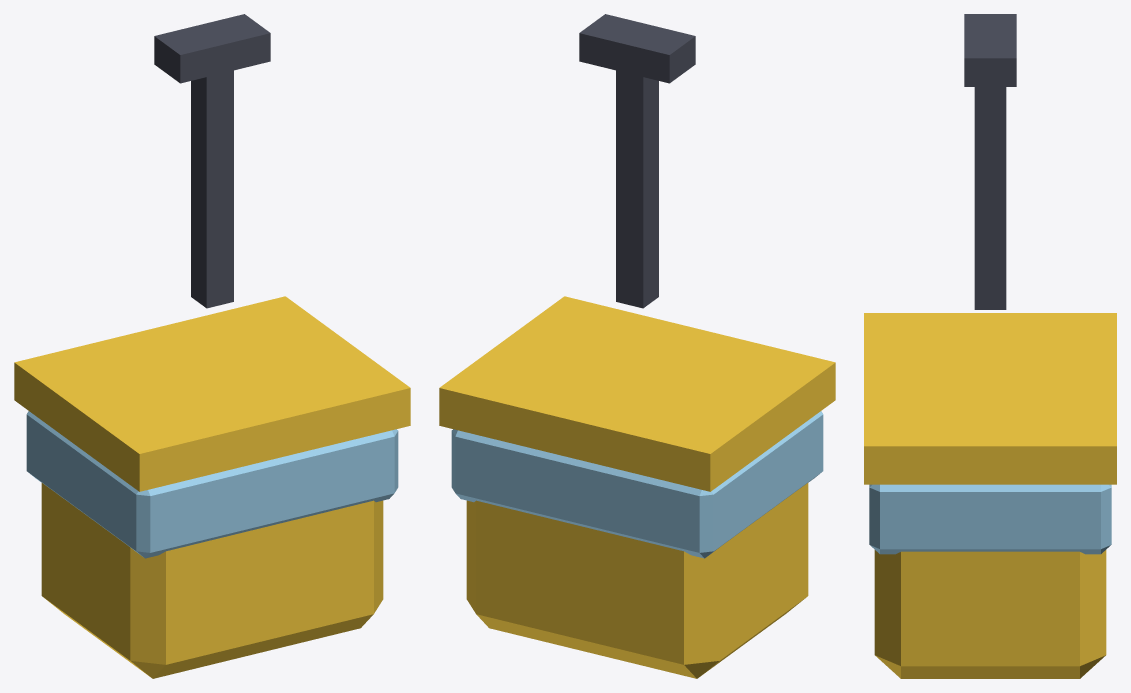
The model's file is sky-ride.cabin-1.glb.
The picture shows the model from 3 angles, left to right: view 1: azimuth 30°, elevation 25°; view 2: azimuth 150°, elevation 25°; view 3: azimuth 270°, elevation 25°; orthographic projection.
Parts seen in each view (by area): view 1: model; view 2: model; view 3: model.
Boxes of the visible parts, box(x1,y1,x2,y2) form: model: box(14, 14, 410, 678); model: box(439, 14, 835, 678); model: box(864, 14, 1116, 678).
Bounding box in the file's own units: 0.3 × 0.62 × 0.24.
Materials: 1 (1 with a texture image).
